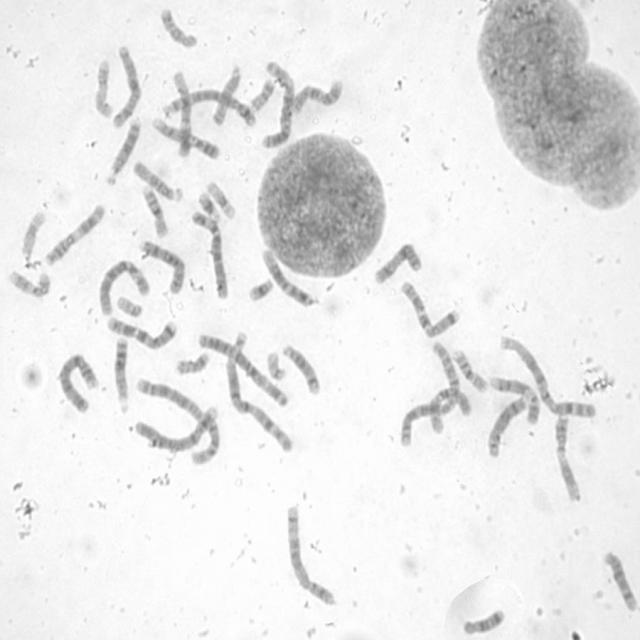A1: (200, 325, 296, 455), (496, 332, 597, 421)
A2: (134, 374, 220, 468), (395, 339, 460, 448)
A3: (195, 329, 290, 409), (258, 57, 298, 150)
B4: (133, 402, 220, 454), (56, 351, 100, 415)
B5: (284, 501, 337, 608), (162, 90, 258, 128)
C10: (424, 386, 473, 432), (291, 76, 343, 115)
C11: (40, 200, 107, 268), (552, 411, 582, 503)
C12: (259, 246, 317, 309), (170, 70, 192, 158)
C6: (190, 208, 230, 300), (96, 256, 150, 318)
C7: (398, 277, 461, 341), (105, 313, 179, 352)
C8: (485, 394, 530, 459), (137, 237, 186, 295)
C9: (149, 114, 220, 161), (488, 372, 540, 425)
D13: (102, 115, 141, 186), (112, 335, 130, 417)
D14: (599, 548, 639, 612), (280, 341, 322, 396)
D15: (130, 159, 184, 203), (209, 62, 243, 128)
E16: (450, 346, 489, 394), (140, 182, 169, 238)
E17: (5, 266, 51, 300), (92, 56, 114, 120)
E18: (158, 6, 199, 50), (460, 605, 506, 636)
F19: (20, 208, 48, 260), (204, 177, 237, 221)
F20: (172, 348, 212, 376), (248, 76, 276, 112)
G21: (196, 189, 222, 223), (246, 274, 276, 303)
G22: (265, 348, 288, 382), (114, 293, 144, 319)
X: (109, 43, 142, 129), (371, 238, 422, 286)
